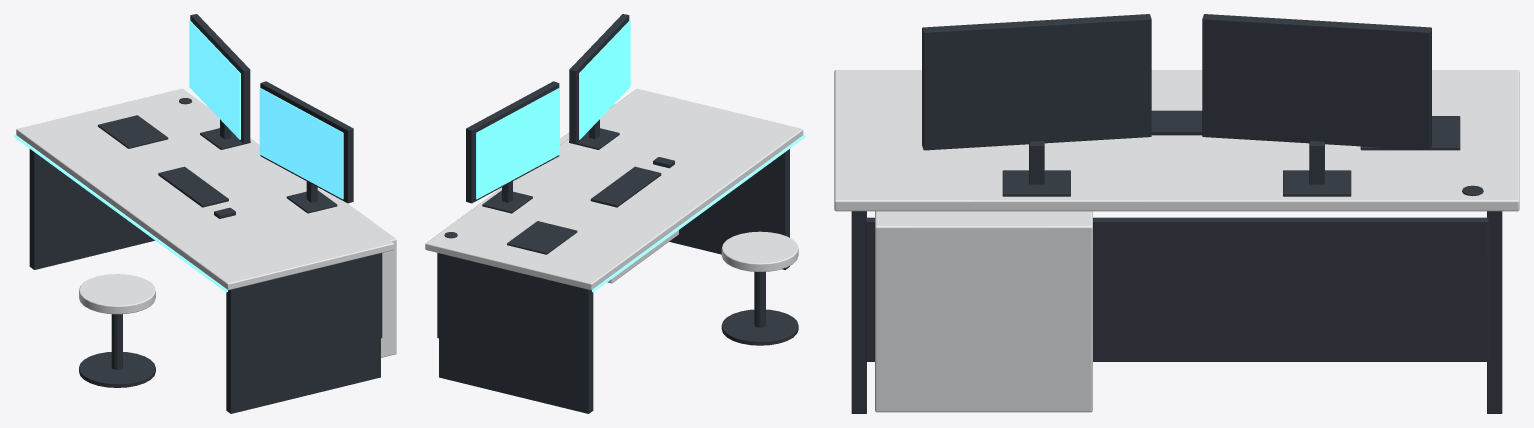
The model's file is Workbench.fbx.
3 renders of one model, left to right at view 1: azimuth 30°, elevation 25°; view 2: azimuth 150°, elevation 25°; view 3: azimuth 270°, elevation 25°, orthographic. The views are drawn at different scales.
Visible parts, largest first — view 1: PROP_Workbench; view 2: PROP_Workbench; view 3: PROP_Workbench.
Part boxes in pixels (x1=…): PROP_Workbench: x1=14, y1=14, x2=396, y2=413; PROP_Workbench: x1=425, y1=14, x2=805, y2=413; PROP_Workbench: x1=834, y1=14, x2=1519, y2=413.
Bounding box in the file's own units: 1.49 × 1.34 × 2.2.
